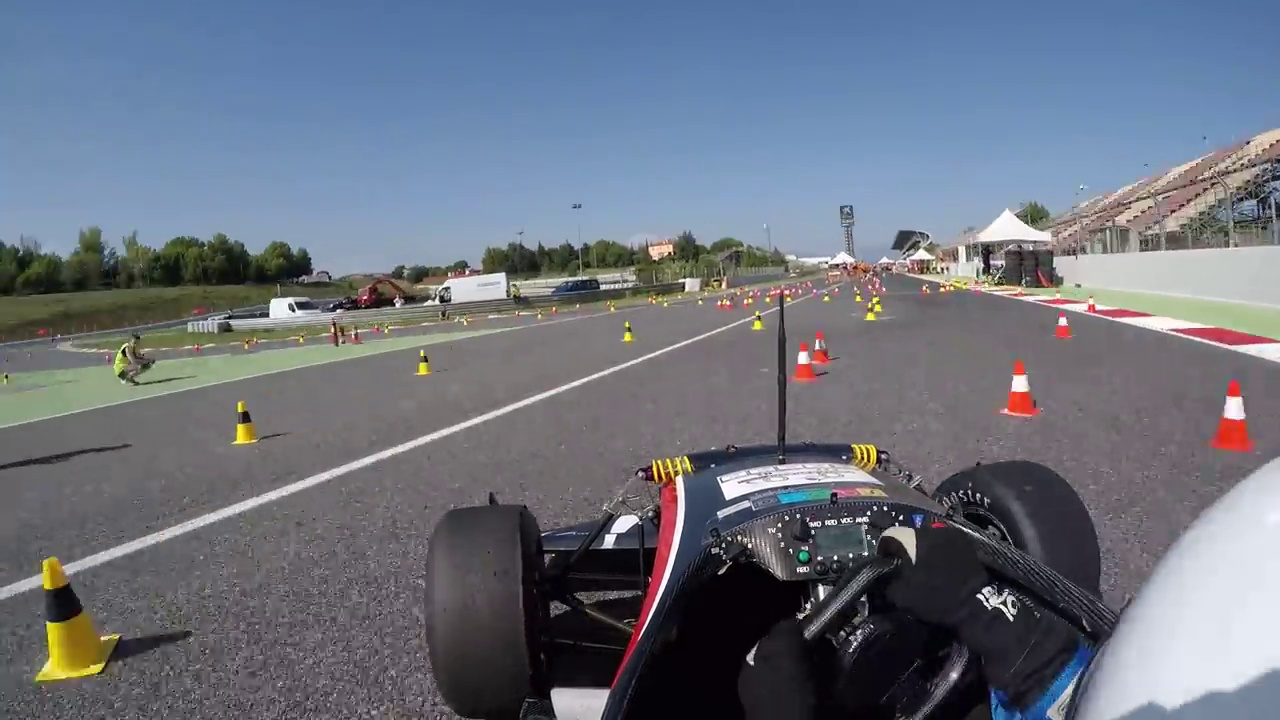Cone: (38, 552, 108, 682), (1209, 379, 1257, 453), (1002, 358, 1043, 420), (232, 400, 259, 447), (793, 338, 817, 380), (811, 330, 831, 366)
